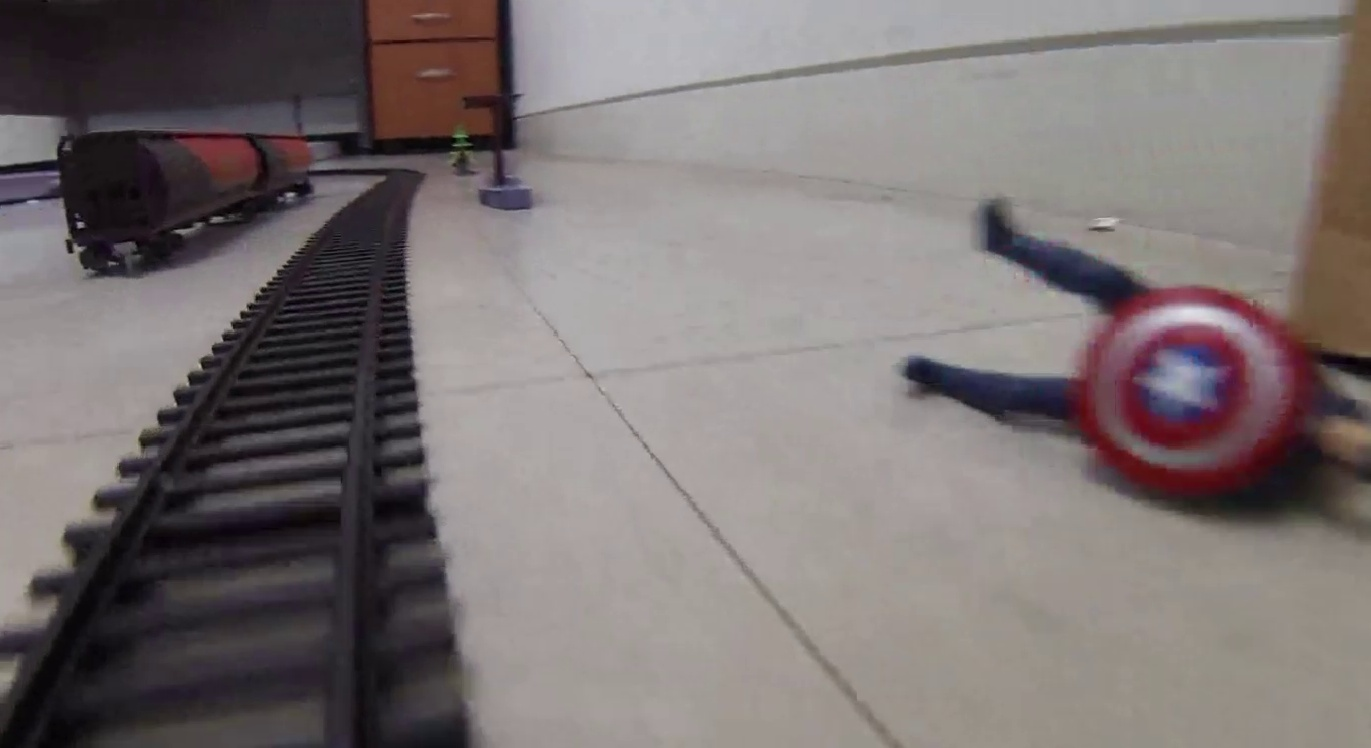people: (900, 208, 1371, 480)
